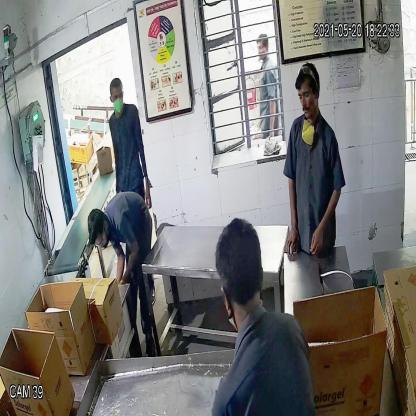no_goggles: (298, 85, 318, 105)
